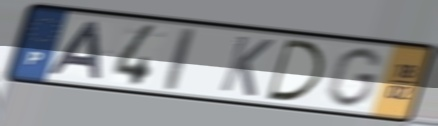4: (110, 23, 159, 88)
A: (45, 20, 105, 82)
D: (264, 36, 327, 103)
G: (322, 45, 385, 110)
I: (162, 25, 198, 93)
K: (216, 33, 277, 100)
